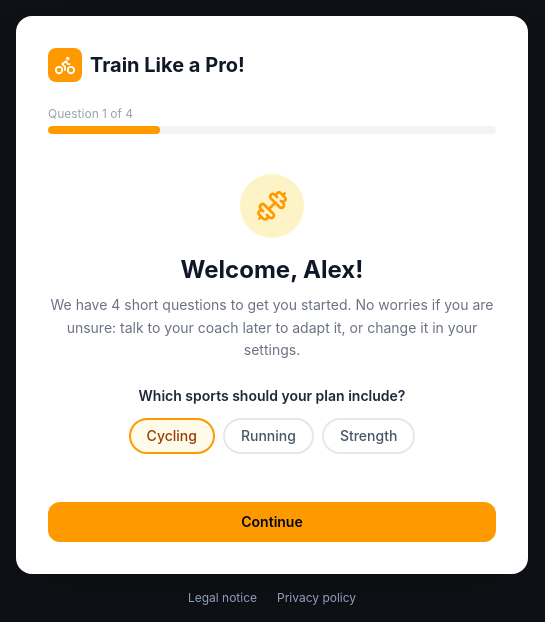
Scenario: OnboardingPage › only offers race prep and general fitness goals
Click the button "Continue" at (272, 522), box x1=48 y1=502 x2=496 y2=542
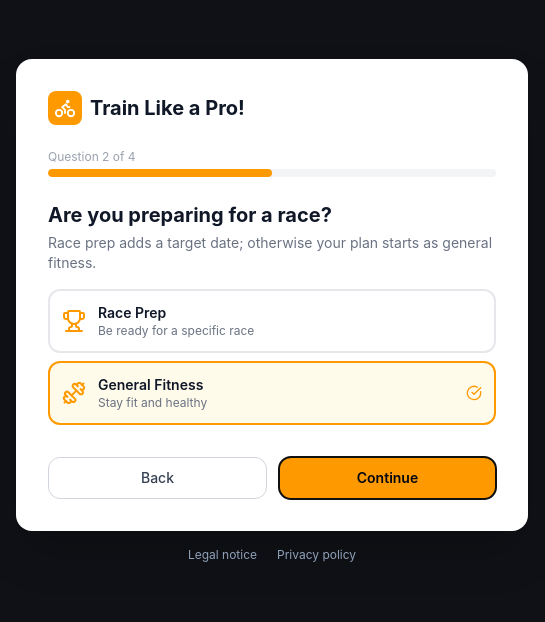
Expected: the button "Race Prep Be ready for a specific race" is shown, x1=48 y1=289 x2=496 y2=353
Expected: the button "General Fitness Stay fit and healthy" is shown, x1=48 y1=361 x2=496 y2=425
